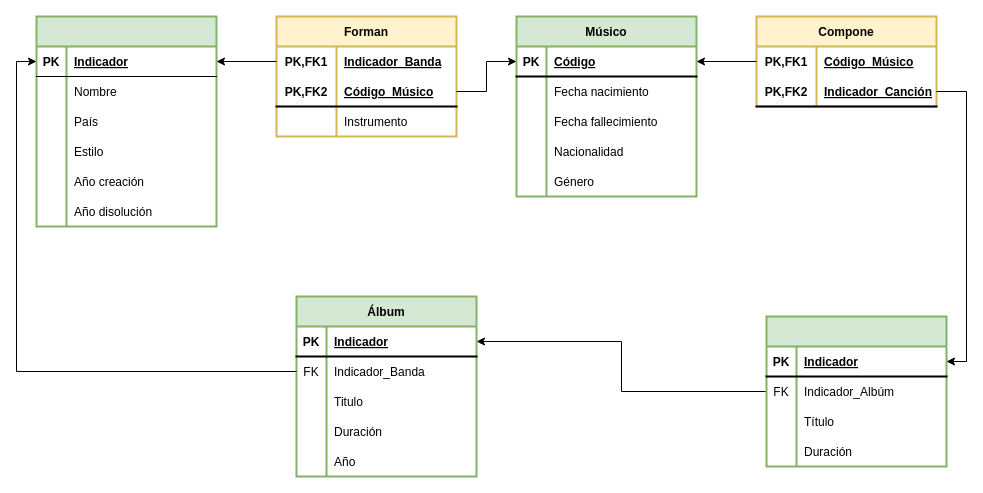
The diagram is 983 pixels wide and 493 high, and some of its shapes have lost their labels. The shapes that lost their labels are listed below. From the top down, each one's box as (x1, y1, x2, y2) in pixels, then its label:
(35, 15, 217, 227): Banda
(765, 315, 947, 467): Canción
